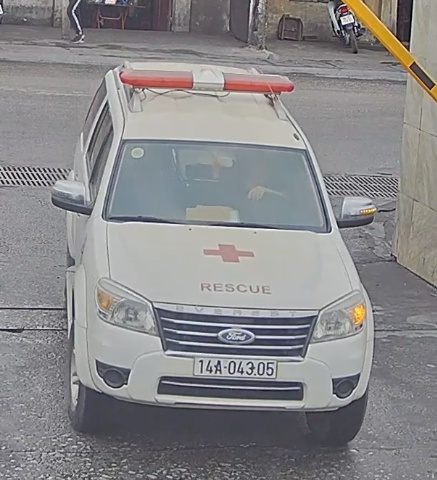vehicle plate: (188, 349, 283, 385)
